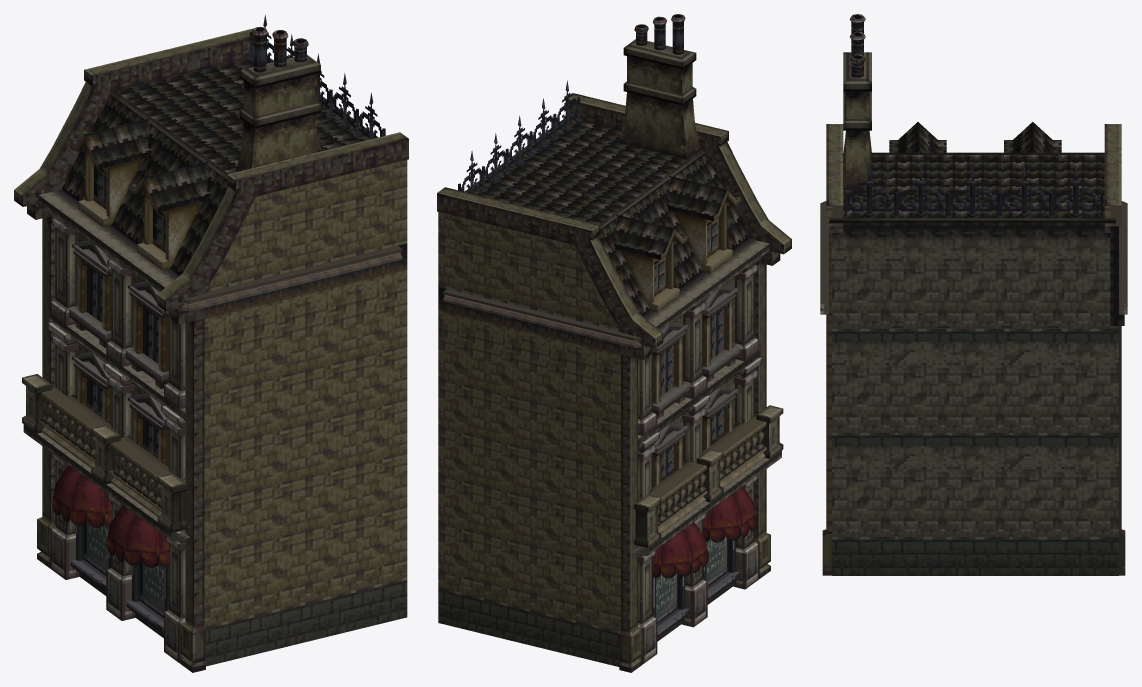
The model's file is EnvBdgMD_City_B_Outdoor_L_C_Arrange_A.FBX.
3 renders of one model, left to right at view 1: azimuth 30°, elevation 25°; view 2: azimuth 150°, elevation 25°; view 3: azimuth 270°, elevation 25°, orthographic. The views are drawn at different scales.
Visible parts, largest first — view 1: EnvBdgMD_City_B_Outdoor_L_C_Arrange_A; view 2: EnvBdgMD_City_B_Outdoor_L_C_Arrange_A; view 3: EnvBdgMD_City_B_Outdoor_L_C_Arrange_A.
Boxes of the visible parts, <box> form: EnvBdgMD_City_B_Outdoor_L_C_Arrange_A: <box>14,15,408,672</box>; EnvBdgMD_City_B_Outdoor_L_C_Arrange_A: <box>437,14,791,672</box>; EnvBdgMD_City_B_Outdoor_L_C_Arrange_A: <box>820,14,1127,575</box>.
Size of the model in its own units: 479 by 1140 by 535.
1 material, 1 textured.
